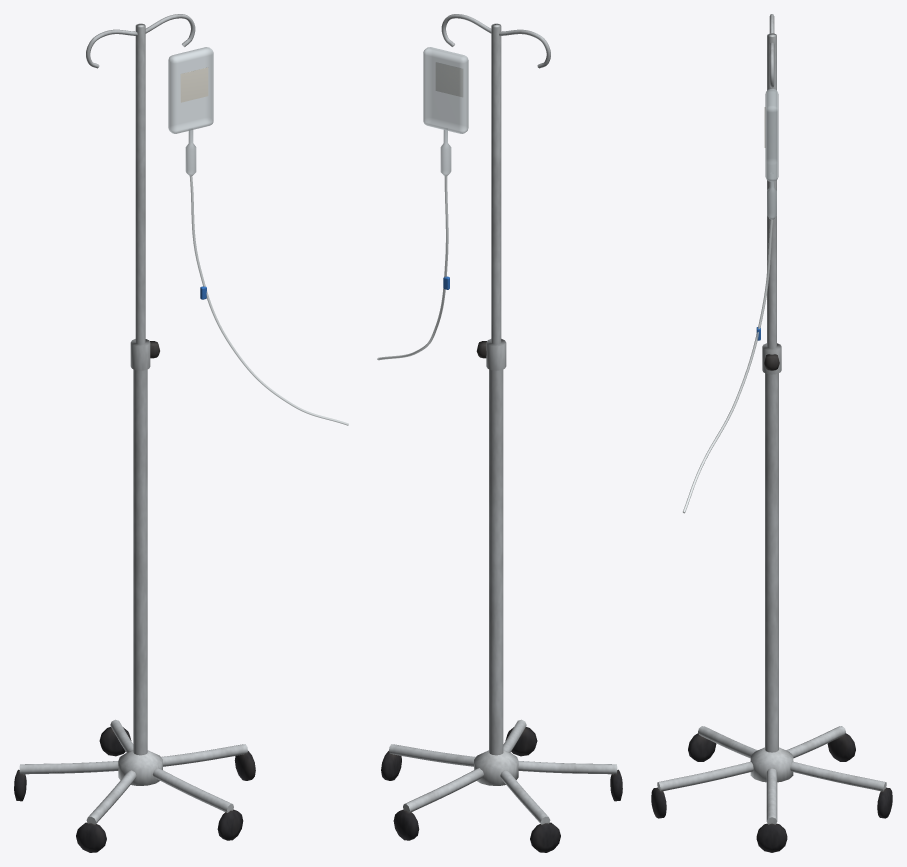
The model's file is szp_stojak.glb.
3 renders of one model, left to right at view 1: azimuth 30°, elevation 25°; view 2: azimuth 150°, elevation 25°; view 3: azimuth 270°, elevation 25°, orthographic.
Parts seen in each view (by area): view 1: Stojak, Kroplowka; view 2: Stojak, Kroplowka; view 3: Stojak, Kroplowka.
Part boxes in pixels (x1=…): Stojak: x1=14, y1=14, x2=255, y2=852; Kroplowka: x1=168, y1=47, x2=348, y2=425; Stojak: x1=381, y1=14, x2=622, y2=852; Kroplowka: x1=377, y1=47, x2=468, y2=360; Stojak: x1=651, y1=14, x2=892, y2=852; Kroplowka: x1=683, y1=89, x2=778, y2=513.
Size of the model in its own units: 0.6661 by 1.93 by 0.5485.
5 materials, 1 textured.
